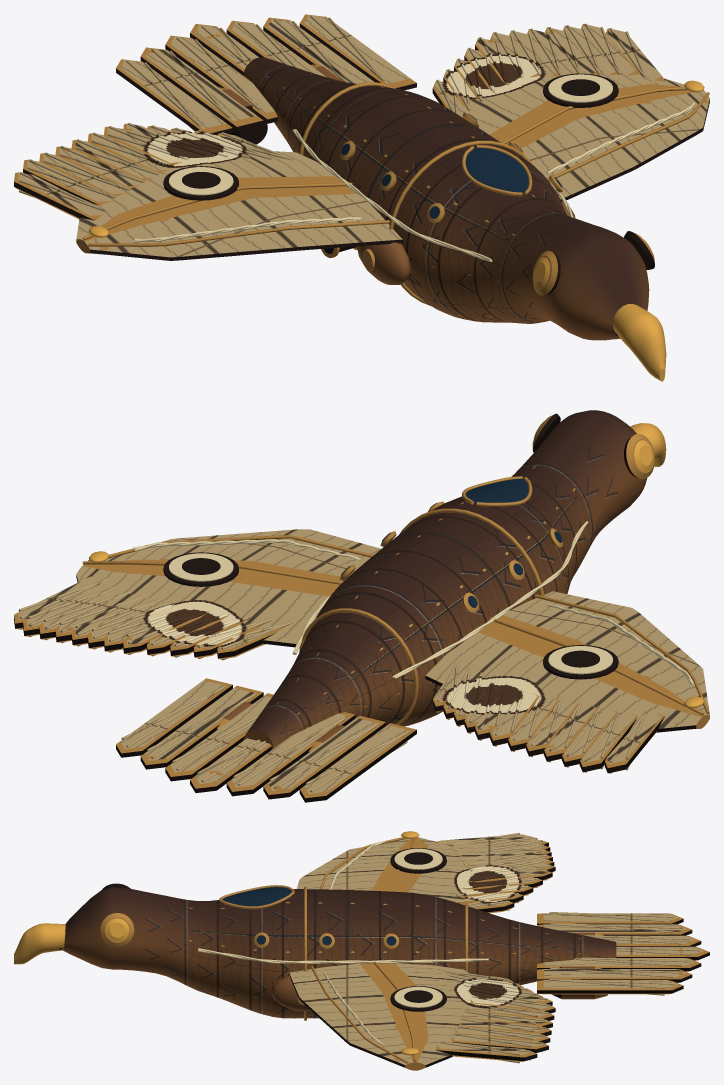
3 views of the same model, one above another, from view 1: azimuth 30°, elevation 25°; view 2: azimuth 150°, elevation 25°; view 3: azimuth 270°, elevation 25° (orthographic). The views are drawn at different scales.
Visible parts, largest first — view 1: oxpecker_hull; view 2: oxpecker_hull; view 3: oxpecker_hull.
Boxes of the visible parts, x1=… form: oxpecker_hull: x1=14, y1=14, x2=709, y2=381; oxpecker_hull: x1=14, y1=410, x2=709, y2=802; oxpecker_hull: x1=14, y1=831, x2=709, y2=1070.
Size of the model in its own units: 12.31 by 3.15 by 16.
1 material, 1 textured.
